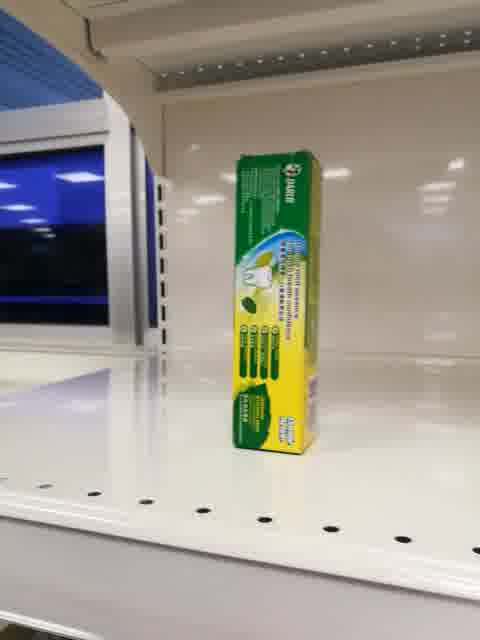toothpaste: (232, 147, 323, 456)
